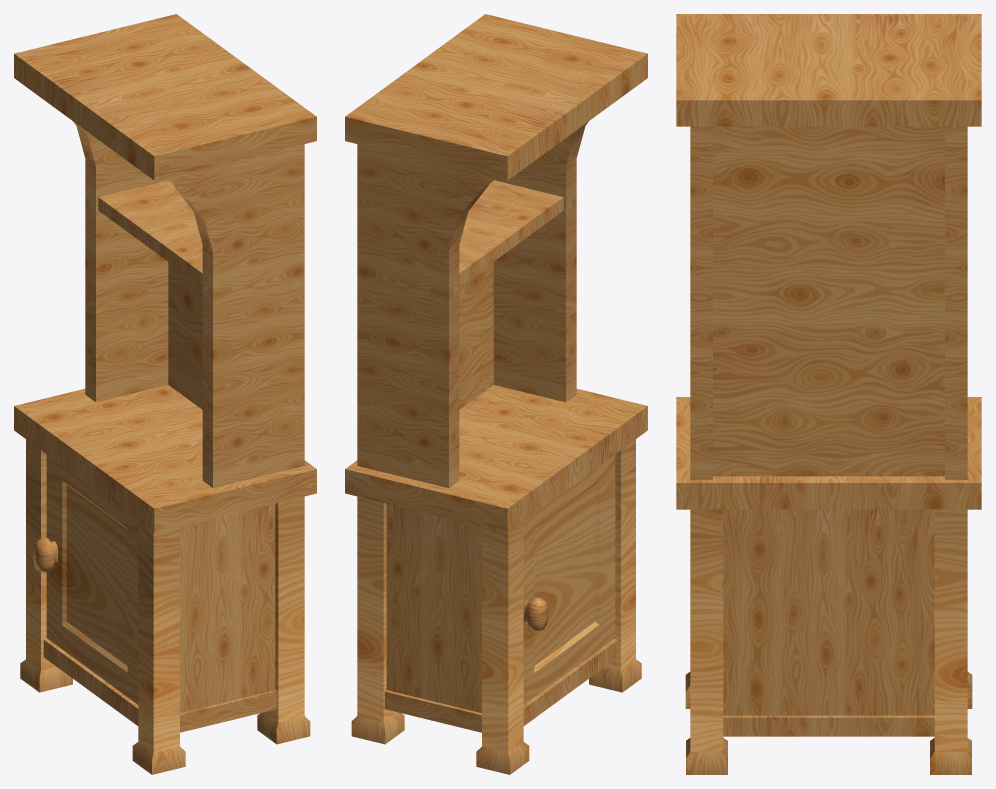
The model's file is Shelf_02.fbx.
3 views of the same model, side by side, from view 1: azimuth 30°, elevation 25°; view 2: azimuth 150°, elevation 25°; view 3: azimuth 270°, elevation 25° (orthographic). The views are drawn at different scales.
Parts seen in each view (by area): view 1: Shelf_02; view 2: Shelf_02; view 3: Shelf_02.
Boxes of the visible parts, left/top/right/bottom form: Shelf_02: left=14, top=14, right=316, bottom=774; Shelf_02: left=345, top=14, right=647, bottom=774; Shelf_02: left=676, top=14, right=981, bottom=774.
Size of the model in its own units: 58.73 by 205 by 83.89.
